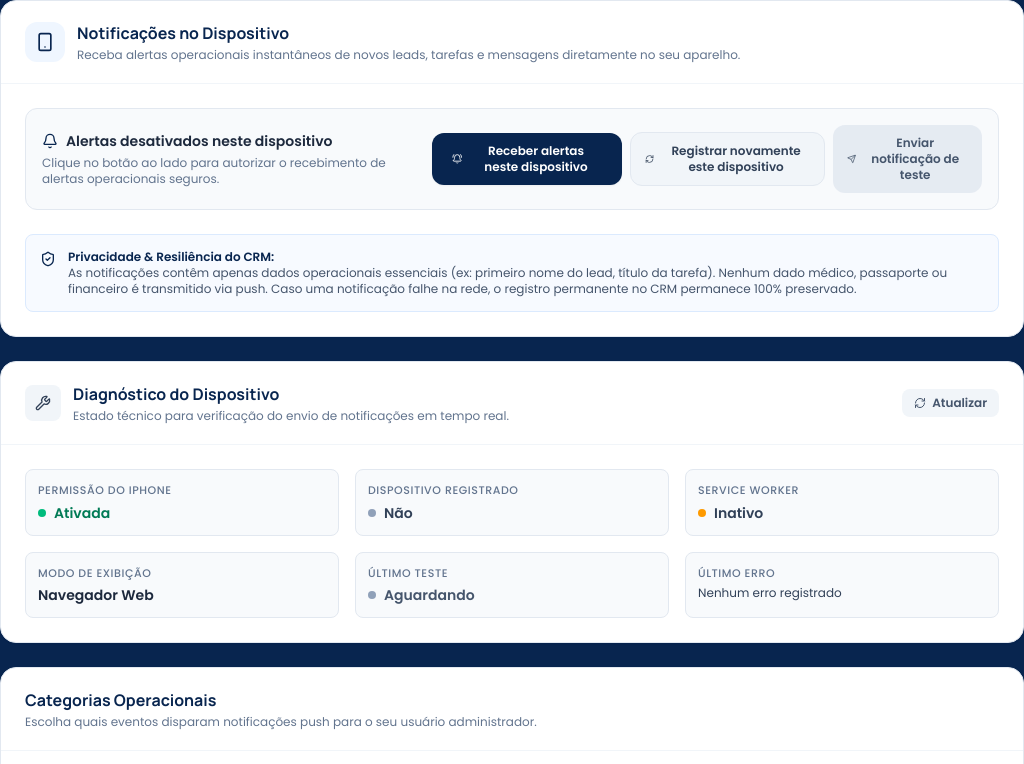
Scenario: EDS HUB — Settings Mobile Layout & Test Push Notification › Notification Settings — Test Push Action › shows guard message when notifications are not enabled on this device
Click test button while unsubscribed
What coordinates should you click on to do the following:
click the button with id "btn-test-push"
I would click on:
 (908, 159)
Its box is [833,125,982,193].
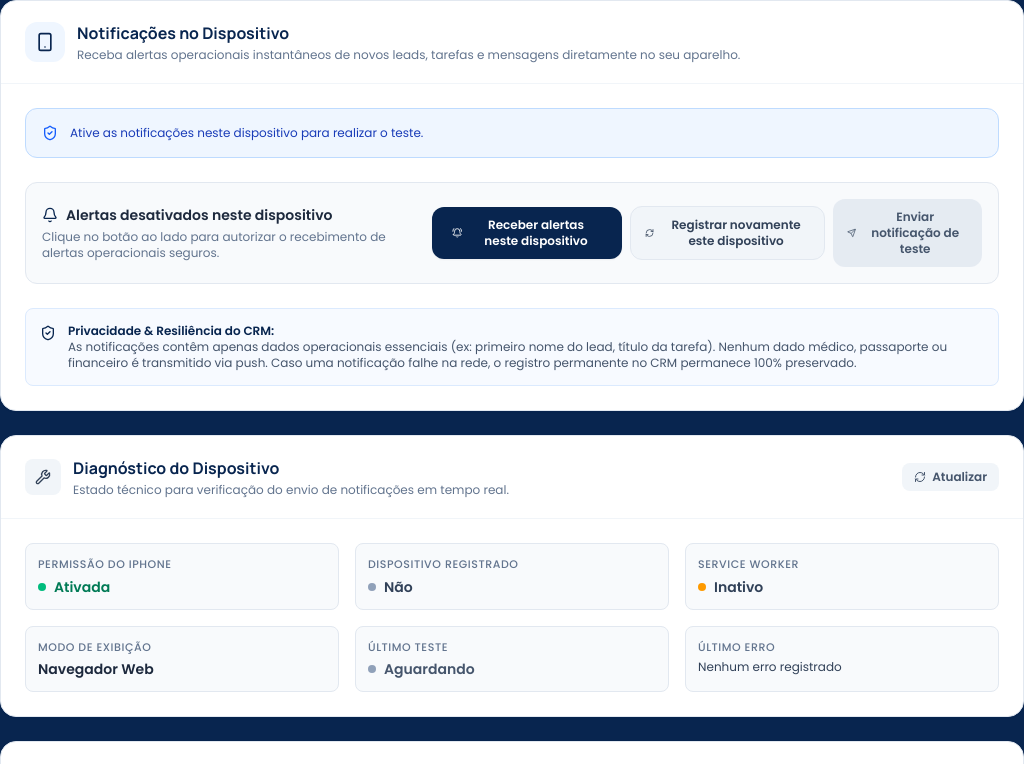
Now the text "Ative as notificações neste dispositivo para realizar o teste." is shown, box [70,125,423,141]
